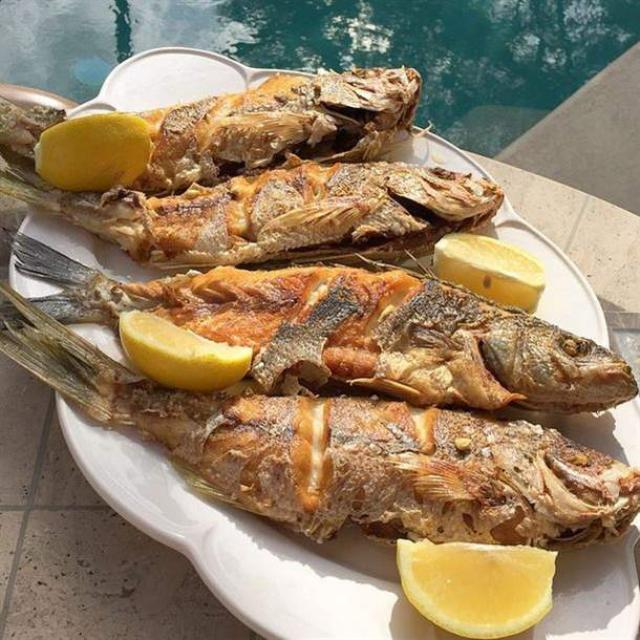Peixe: (0, 254, 639, 551), (0, 150, 505, 268), (0, 63, 424, 194)
